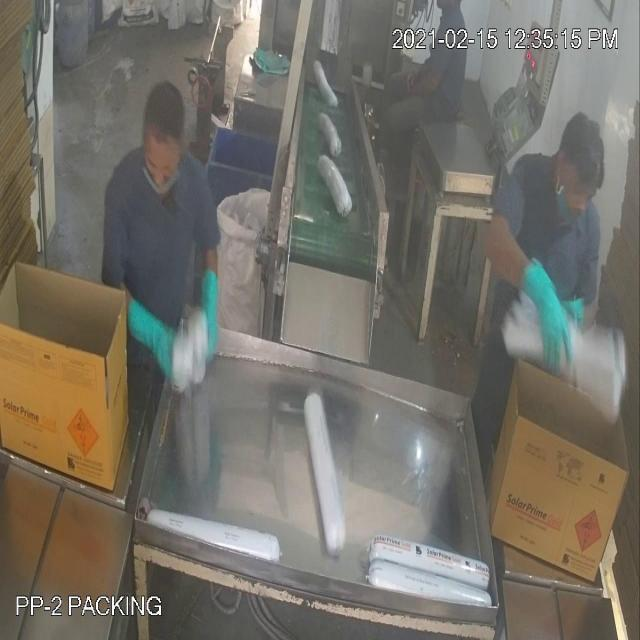Gloves: (30, 119, 539, 336)
